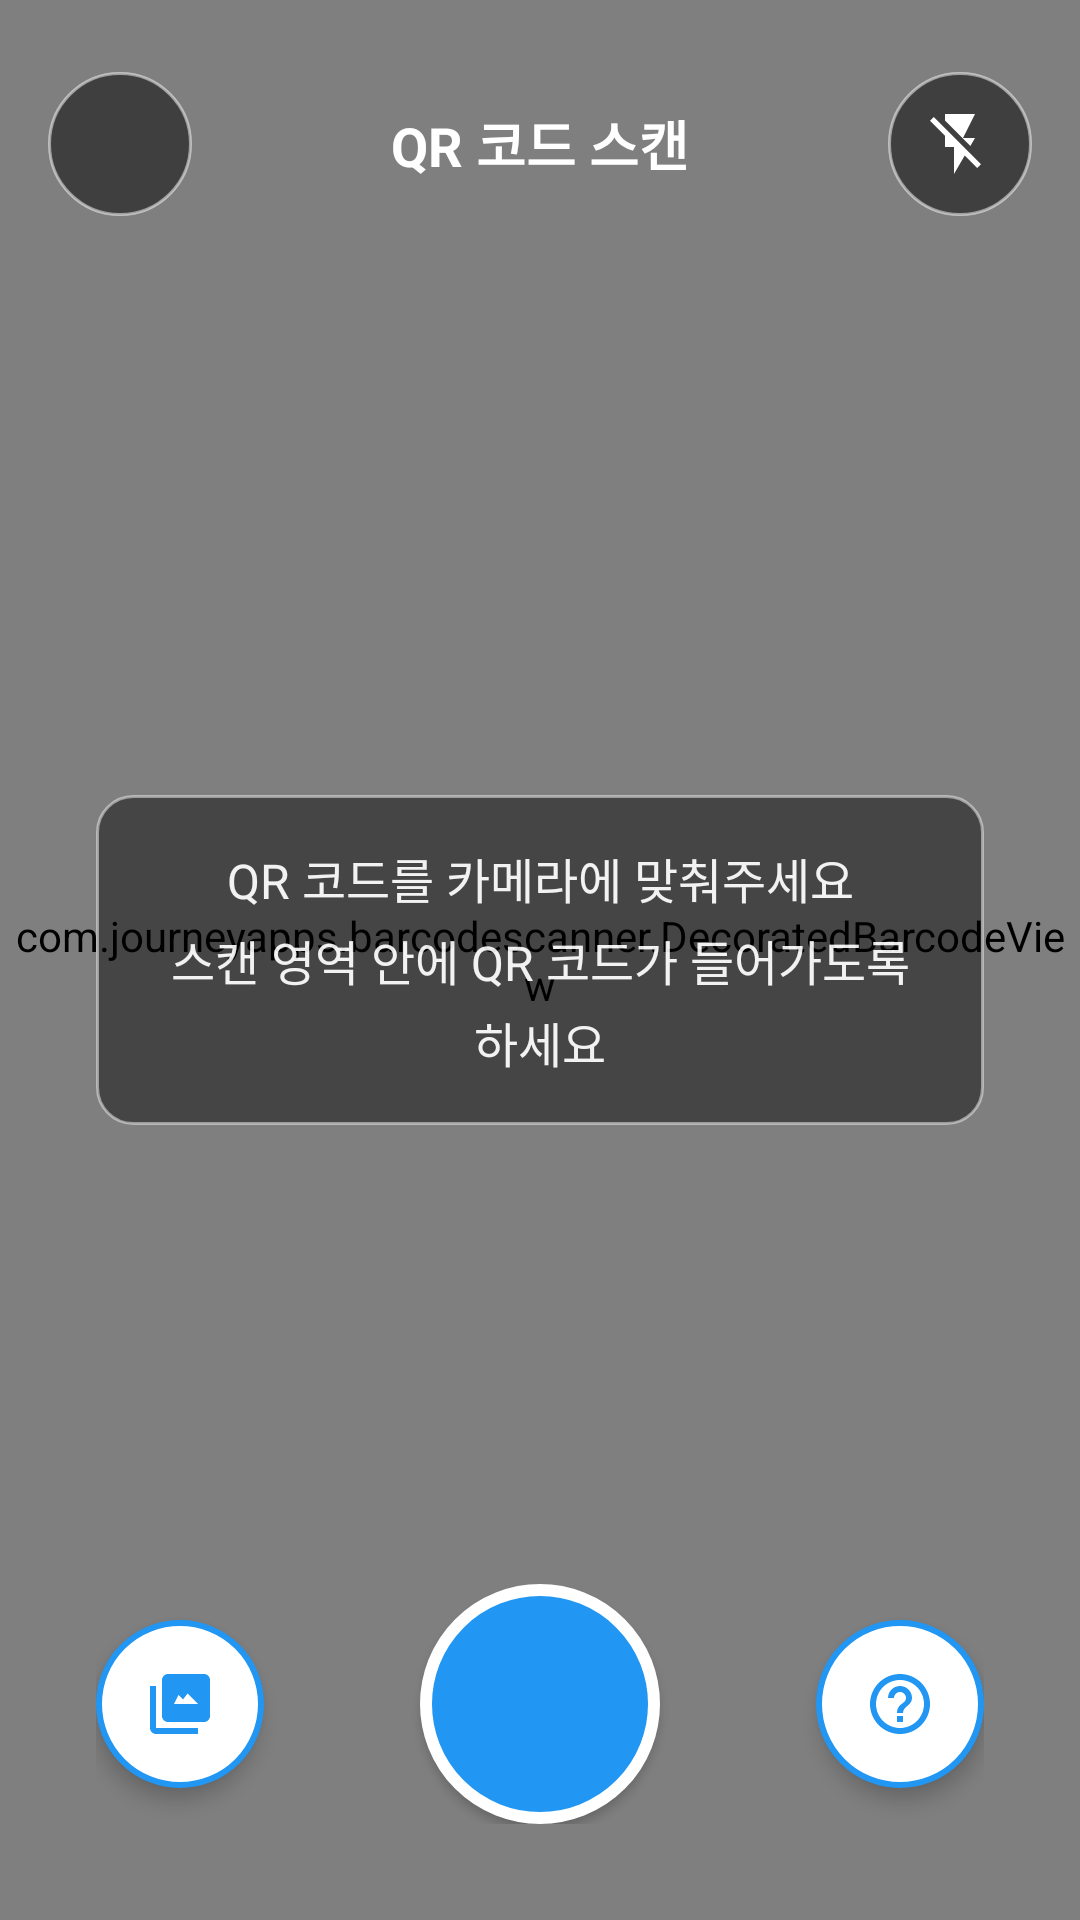

Icons on this 1080 × 1920 Android screen, each with the point to tap as (x,y):
갤러리에서 선택: (180,1704)
도움말: (900,1704)
플래시 토글: (960,144)
